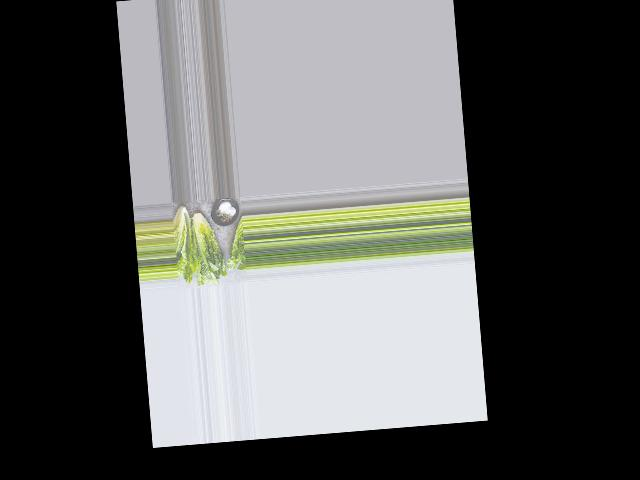lettuce: (171, 200, 197, 278)
